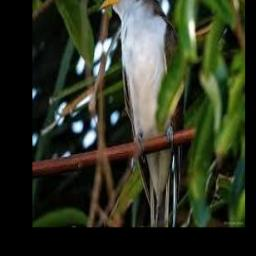Cuckoo: (100, 0, 184, 227)
